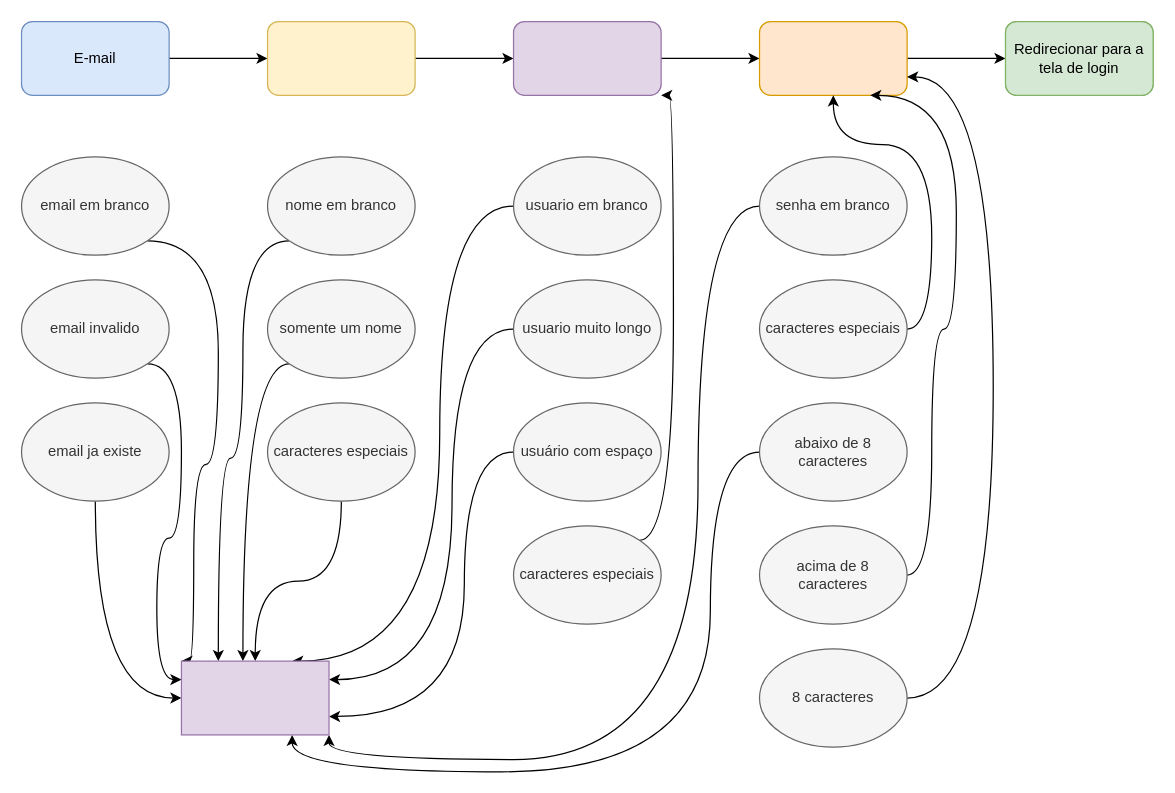
Image size: 1175x793. Some labels were removed from this diagram. Each missing label, with the centre of its shape:
mensagem de erro: (254,697)
Nome completo: (340,57)
Senha: (832,57)
Usuario: (586,57)
